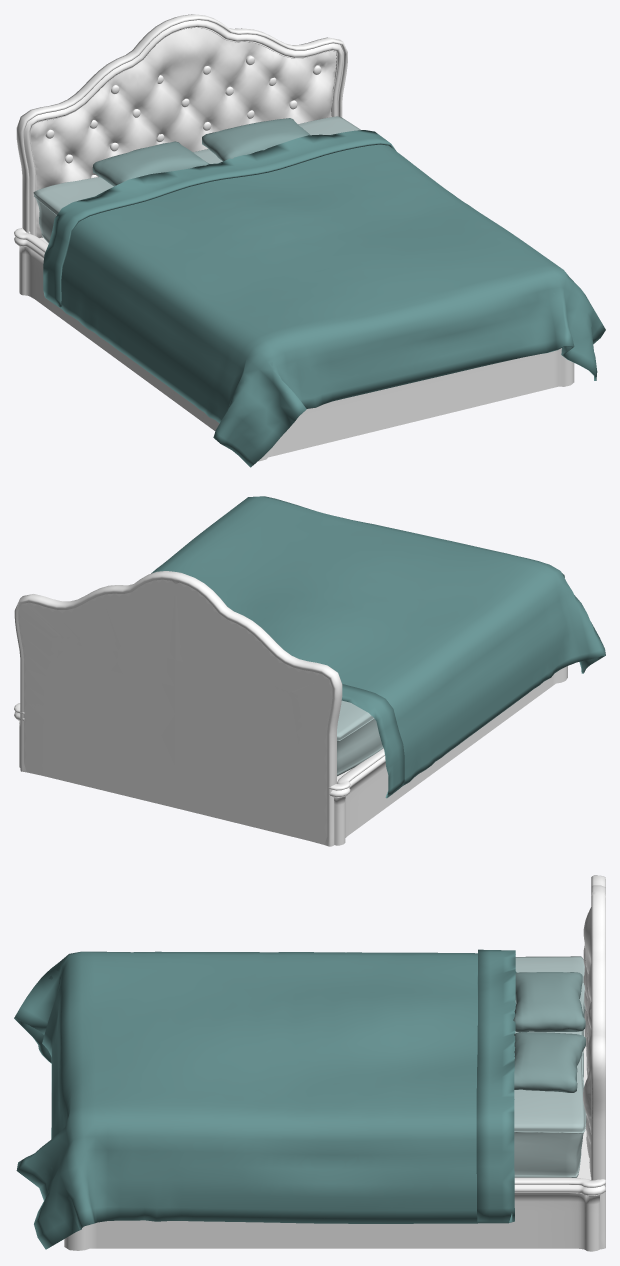
Rendered from bed_luxe.obj.
3 renders of one model, top to bottom at view 1: azimuth 30°, elevation 25°; view 2: azimuth 150°, elevation 25°; view 3: azimuth 270°, elevation 25°, orthographic. The views are drawn at different scales.
Visible parts, largest first — view 1: Plane.002_Plane.002_Blanquet, Plane_Plane_Bed, Cube.001_Cube.002_Frame, Cube_Cube_Frame, Cube.002_Cube.003_Mattress, Cube.003_Cube.005_Pillow, Cube.004_Cube.006_Pillow, Sphere_Sphere.001_Bed; view 2: Cube_Cube_Frame, Plane.002_Plane.002_Blanquet, Cube.001_Cube.002_Frame, Cube.002_Cube.003_Mattress; view 3: Plane.002_Plane.002_Blanquet, Cube.001_Cube.002_Frame, Cube.002_Cube.003_Mattress, Cube_Cube_Frame, Cube.003_Cube.005_Pillow, Cube.004_Cube.006_Pillow, Plane_Plane_Bed, Plane.003_Plane.003_Bed.
Boxes of the visible parts, left/top/right/bottom form: Plane.002_Plane.002_Blanquet: left=43, top=130, right=605, bottom=467; Plane_Plane_Bed: left=30, top=27, right=336, bottom=237; Cube.001_Cube.002_Frame: left=14, top=228, right=574, bottom=461; Cube_Cube_Frame: left=16, top=14, right=347, bottom=235; Cube.002_Cube.003_Mattress: left=33, top=116, right=360, bottom=243; Cube.003_Cube.005_Pillow: left=92, top=141, right=209, bottom=186; Cube.004_Cube.006_Pillow: left=202, top=118, right=309, bottom=161; Sphere_Sphere.001_Bed: left=45, top=55, right=321, bottom=178; Cube_Cube_Frame: left=14, top=571, right=342, bottom=846; Plane.002_Plane.002_Blanquet: left=151, top=496, right=605, bottom=798; Cube.001_Cube.002_Frame: left=14, top=666, right=567, bottom=845; Cube.002_Cube.003_Mattress: left=337, top=700, right=383, bottom=776; Plane.002_Plane.002_Blanquet: left=14, top=949, right=516, bottom=1249; Cube.001_Cube.002_Frame: left=64, top=1177, right=605, bottom=1251; Cube.002_Cube.003_Mattress: left=514, top=956, right=586, bottom=1177; Cube_Cube_Frame: left=591, top=875, right=605, bottom=1249; Cube.003_Cube.005_Pillow: left=513, top=972, right=585, bottom=1032; Cube.004_Cube.006_Pillow: left=514, top=1032, right=585, bottom=1092; Plane_Plane_Bed: left=583, top=907, right=591, bottom=1176; Plane.003_Plane.003_Bed: left=577, top=1029, right=591, bottom=1179.
Bounding box in the file's own units: 4 × 2.26 × 4.51.
